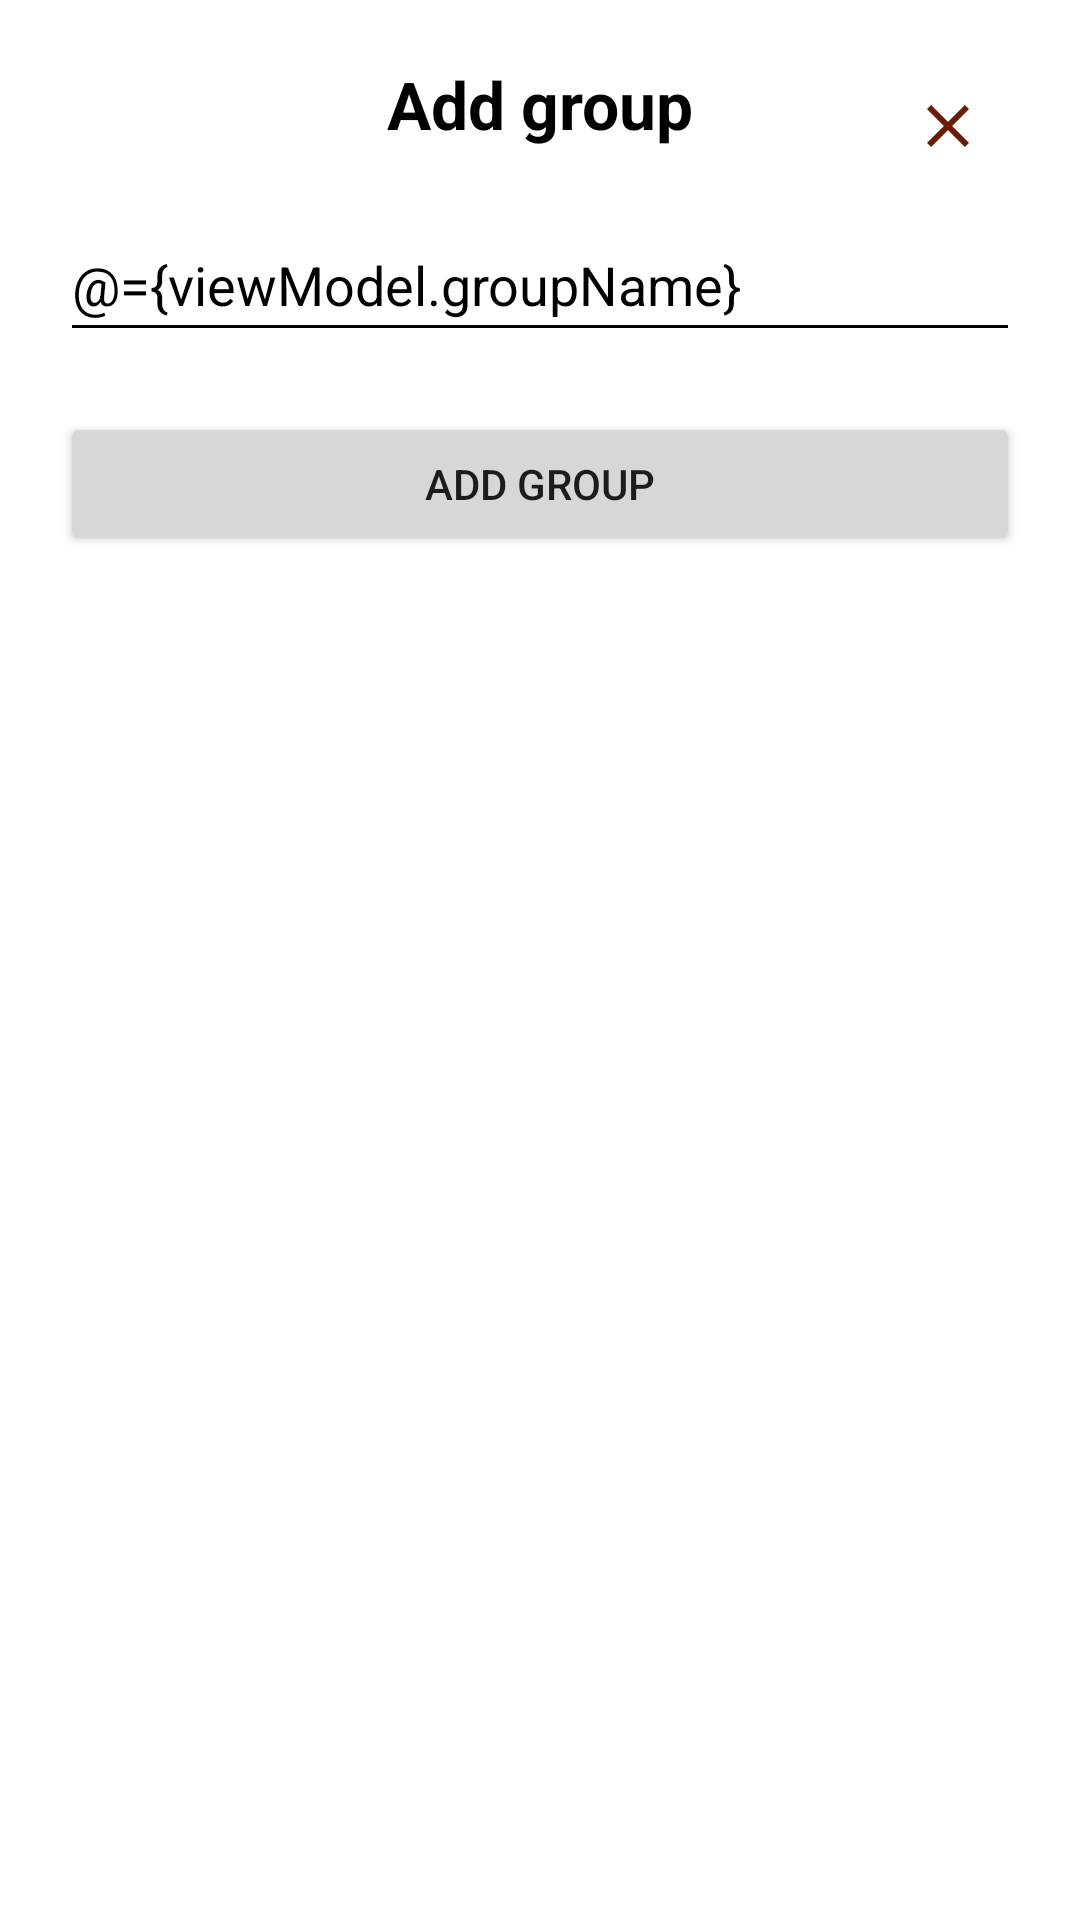

Screen size 1080w x 1920h. Icon name, then its box in pixels as (x1, y1, x2, y2):
close: (927, 105, 969, 147)
